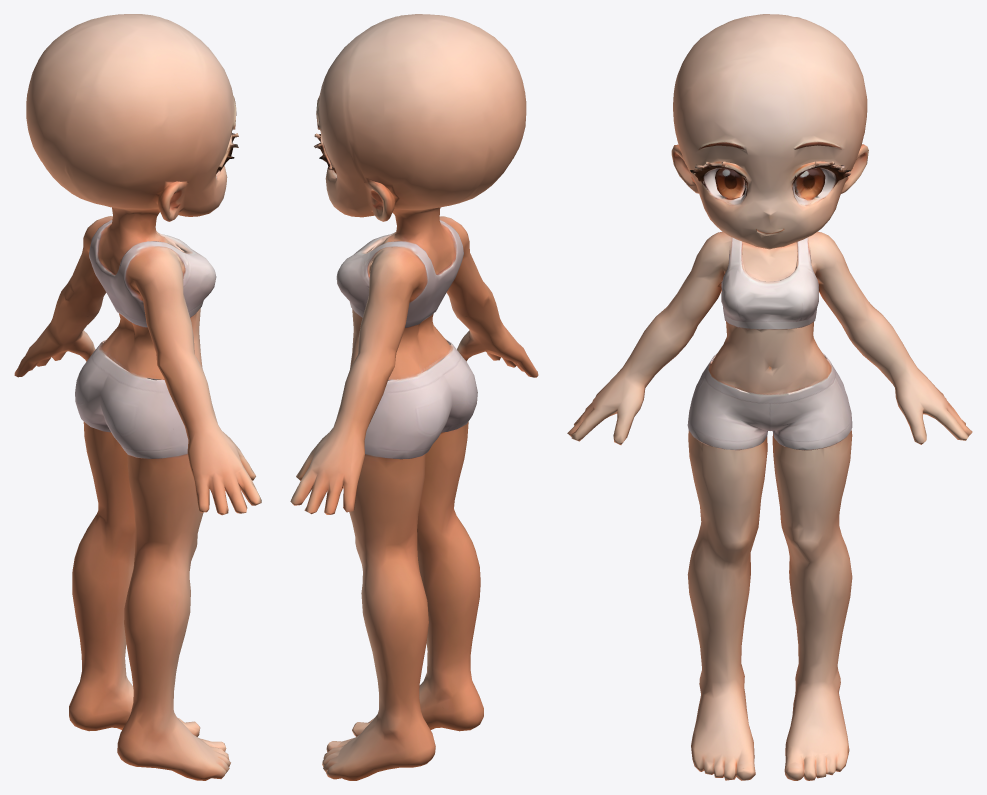
Rendered from CHR_Female_Base.glb.
3 renders of one model, left to right at view 1: azimuth 30°, elevation 25°; view 2: azimuth 150°, elevation 25°; view 3: azimuth 270°, elevation 25°, orthographic. The views are drawn at different scales.
Visible parts, largest first — view 1: tripo_node_4f4f114b-4deb-4a2e-a27a-a1c43cbfecaa; view 2: tripo_node_4f4f114b-4deb-4a2e-a27a-a1c43cbfecaa; view 3: tripo_node_4f4f114b-4deb-4a2e-a27a-a1c43cbfecaa.
Part boxes in pixels (x1,y1,x2,y2): tripo_node_4f4f114b-4deb-4a2e-a27a-a1c43cbfecaa: (14,14,261,780); tripo_node_4f4f114b-4deb-4a2e-a27a-a1c43cbfecaa: (290,14,538,780); tripo_node_4f4f114b-4deb-4a2e-a27a-a1c43cbfecaa: (567,14,972,780).
Size of the model in its own units: 0.2464 by 0.9799 by 0.4993.
Materials: 1 (1 with a texture image).
